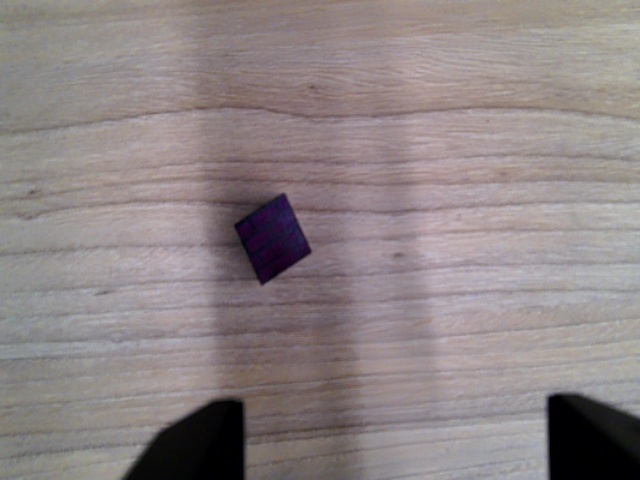brick: (232, 194, 315, 287)
